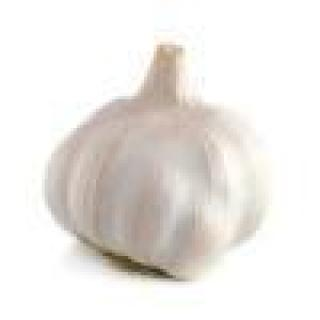Bawang Putih: (40, 40, 296, 283)
